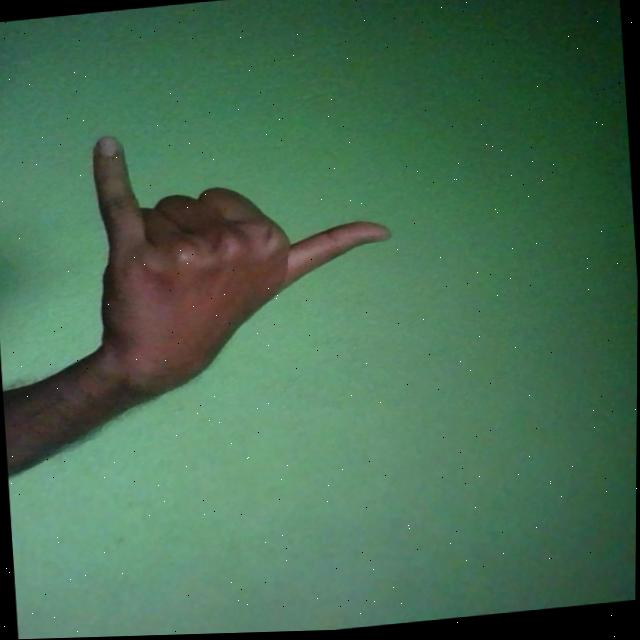Call Me: (89, 110, 402, 404)
